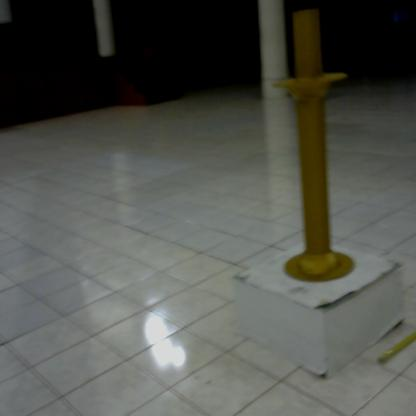pole: (271, 4, 365, 295)
